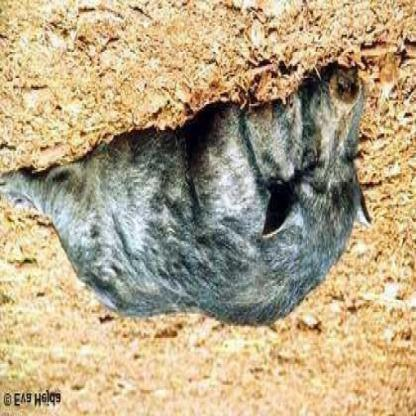boar: (6, 70, 397, 352)
